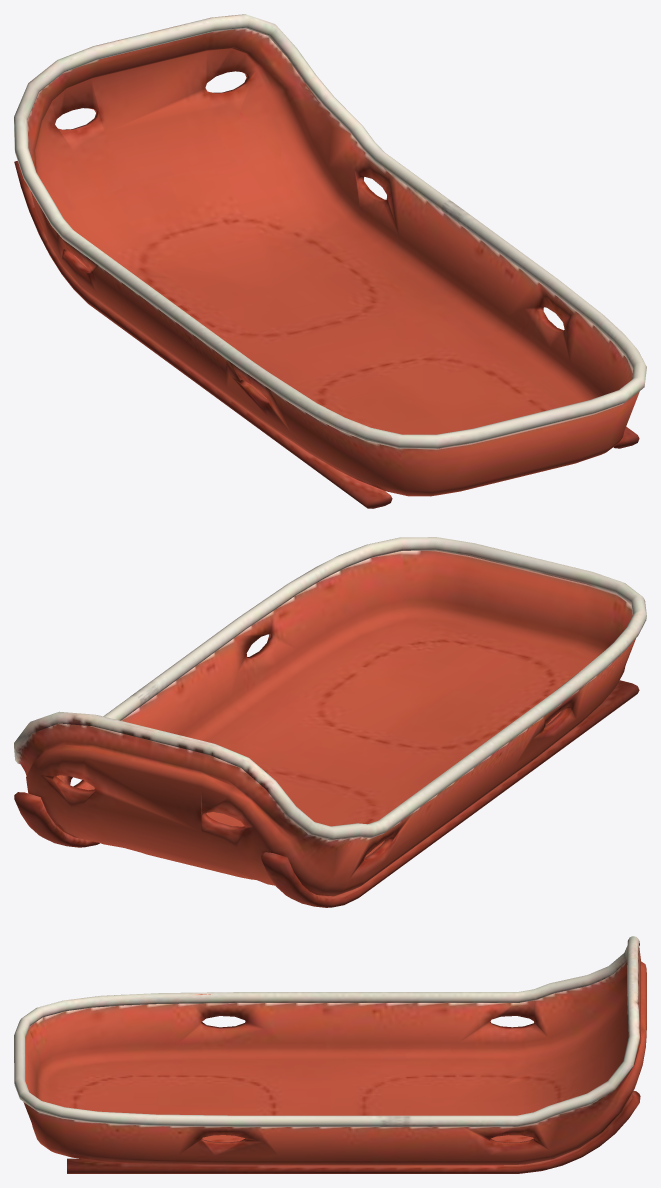
The model's file is sled_small.glb.
The picture shows the model from 3 angles, top to bottom: view 1: azimuth 30°, elevation 25°; view 2: azimuth 150°, elevation 25°; view 3: azimuth 270°, elevation 25°; orthographic projection. The views are drawn at different scales.
Visible parts, largest first — view 1: prop_sled_small_felt; view 2: prop_sled_small_felt; view 3: prop_sled_small_felt.
Part boxes in pixels (bbox=[...]): prop_sled_small_felt: bbox=[14, 14, 646, 508]; prop_sled_small_felt: bbox=[14, 537, 646, 907]; prop_sled_small_felt: bbox=[14, 936, 646, 1173].
Size of the model in its own units: 0.7378 by 0.4092 by 1.53.
Materials: 1 (1 with a texture image).
